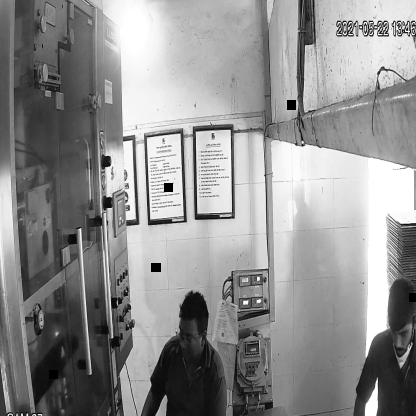goggles: (173, 326, 208, 346)
